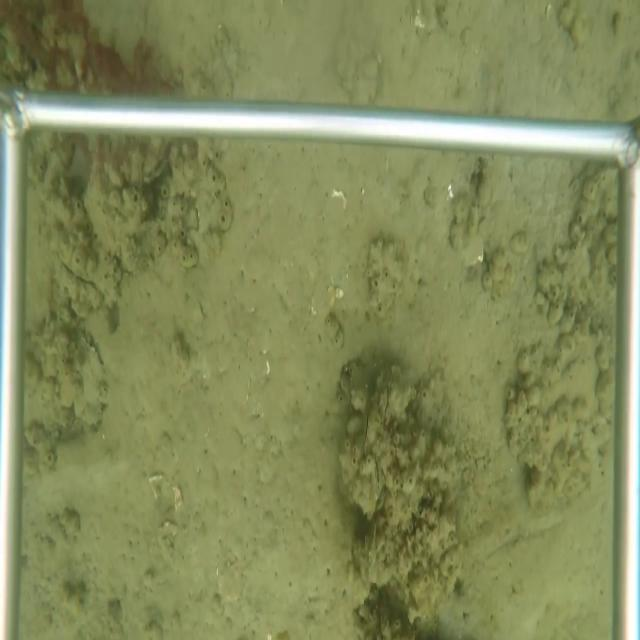Oyster-Indeterminate: (28, 310, 109, 437)
Oyster-Open: (140, 138, 169, 182)
